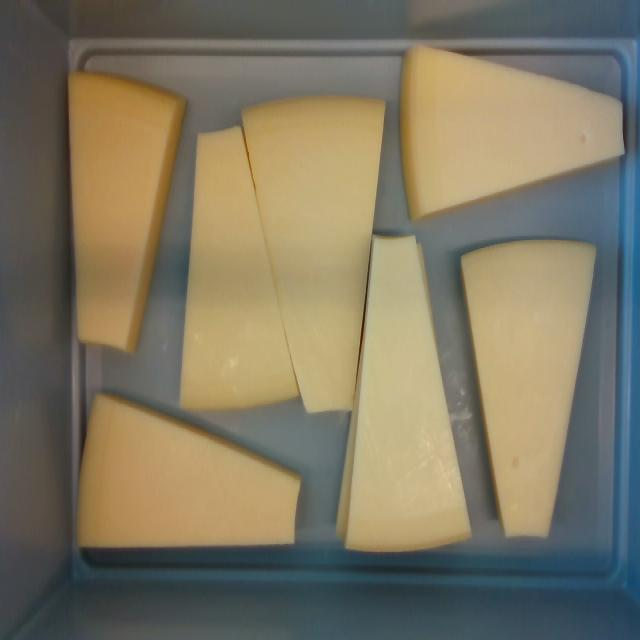Cheese: (244, 97, 384, 411), (463, 241, 593, 536), (401, 47, 623, 219), (347, 236, 468, 551), (79, 396, 299, 545), (182, 127, 297, 410), (71, 77, 173, 347)
